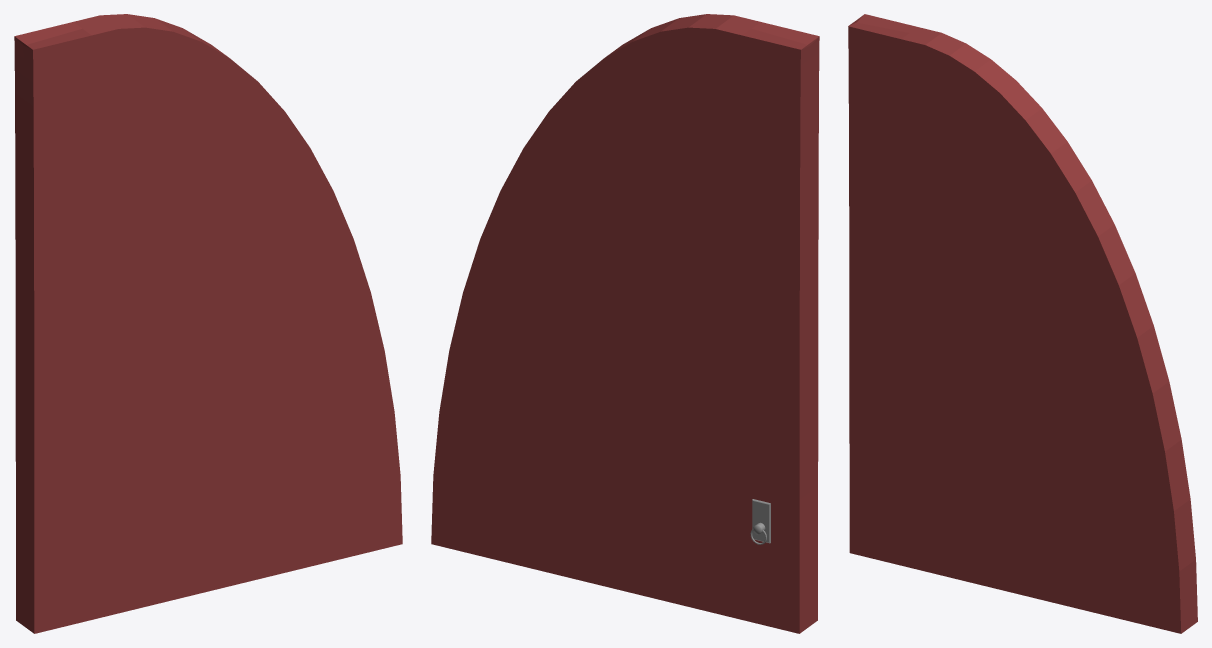
The model's file is door.FBX.
3 renders of one model, left to right at view 1: azimuth 30°, elevation 25°; view 2: azimuth 150°, elevation 25°; view 3: azimuth 330°, elevation 25°, orthographic. The views are drawn at different scales.
Parts seen in each view (by area): view 1: Box003; view 2: Box003; view 3: Box003.
Boxes of the visible parts, x1,y1,x2,y2 form: Box003: [14, 14, 402, 633]; Box003: [431, 14, 819, 633]; Box003: [848, 14, 1197, 633].
Bounding box in the file's own units: 6.95 × 10.49 × 0.7729.
